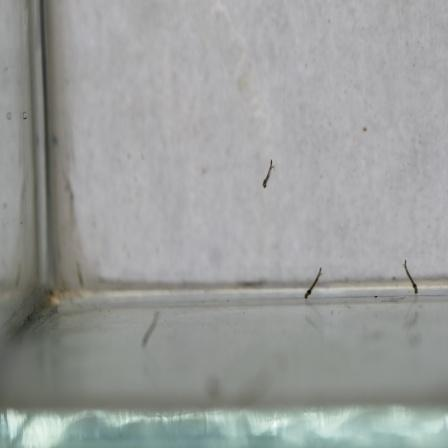Jentik-Nyamuk: (399, 256, 422, 298), (301, 262, 324, 302), (259, 154, 277, 189)
